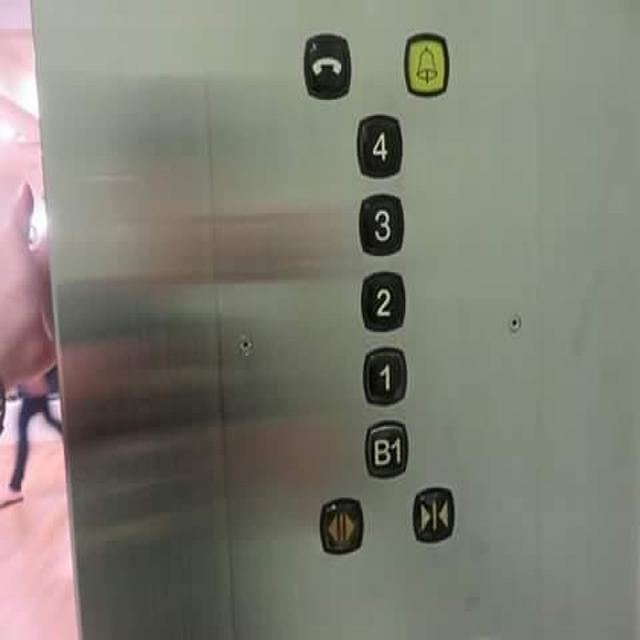1: (361, 344, 407, 405)
2: (359, 269, 405, 331)
3: (357, 190, 404, 254)
4: (354, 110, 403, 178)
B1: (363, 418, 409, 482)
alarm: (403, 31, 449, 97)
call: (301, 32, 351, 101)
close: (411, 484, 455, 543)
open: (319, 494, 363, 554)
